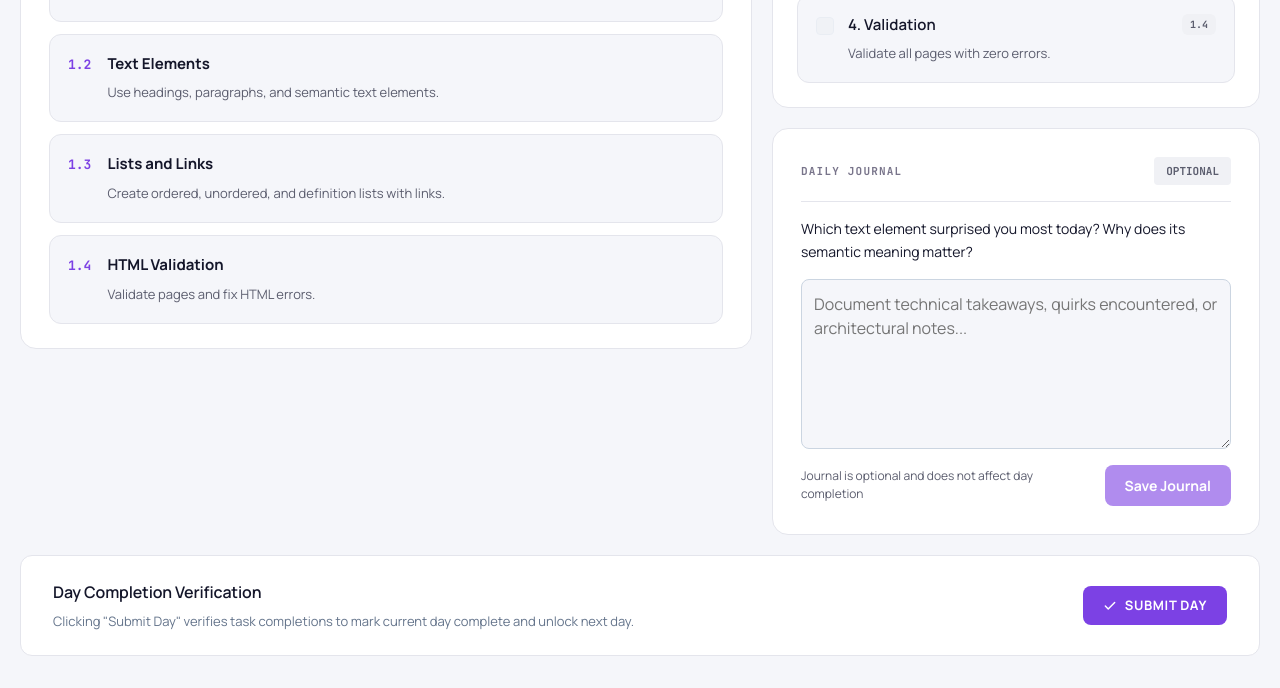
DayOverviewPage: completing the day › shows the server message when completion fails
(page scrolled)
Click the button "SUBMIT DAY": (1155, 606) [1083, 586, 1227, 626]
(page scrolled)
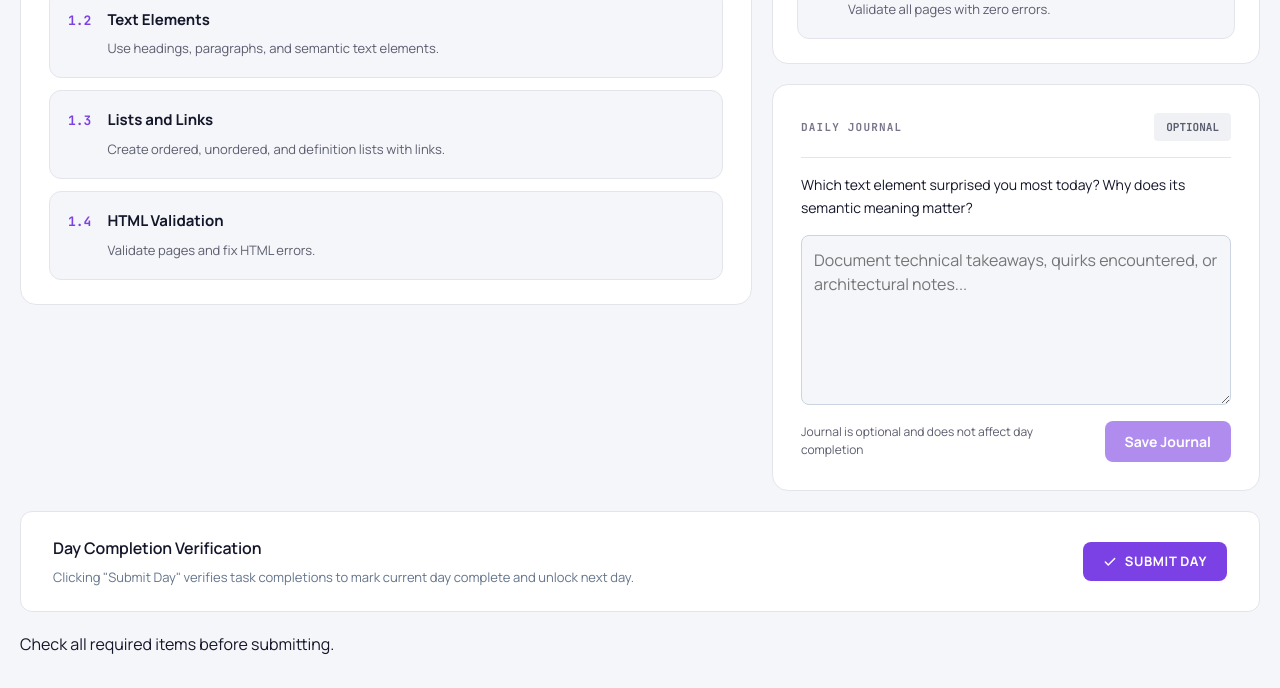
Now the message "Check all required items before submitting." is shown, box [20, 634, 334, 656]
